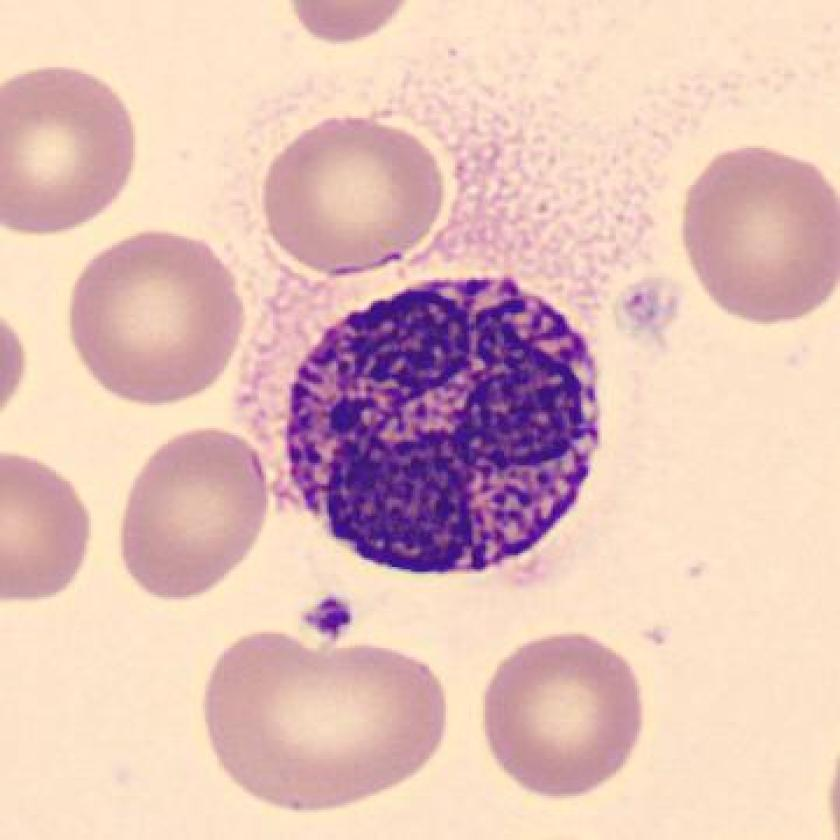basophil: (270, 265, 613, 596)
